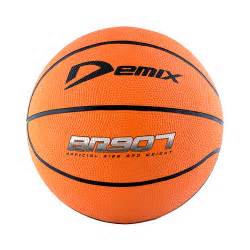basketball: (25, 26, 225, 227)
